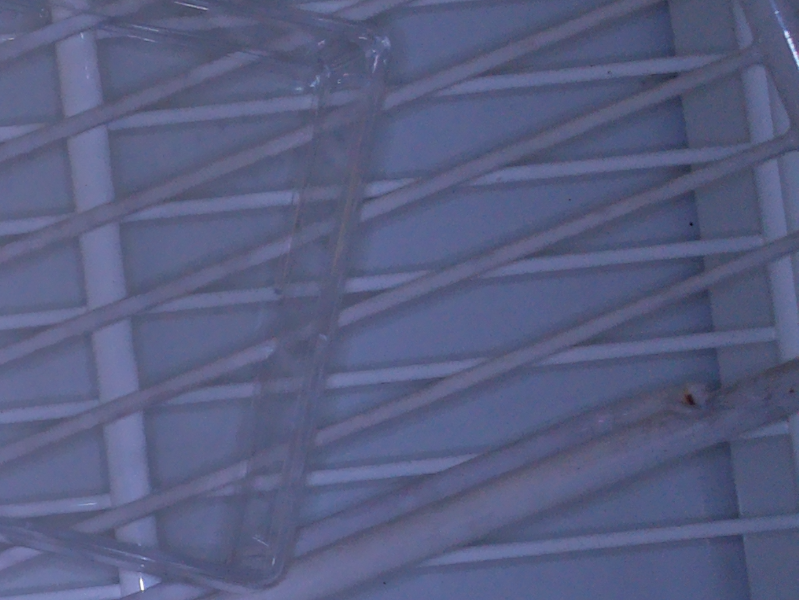plate: (1, 1, 395, 593)
